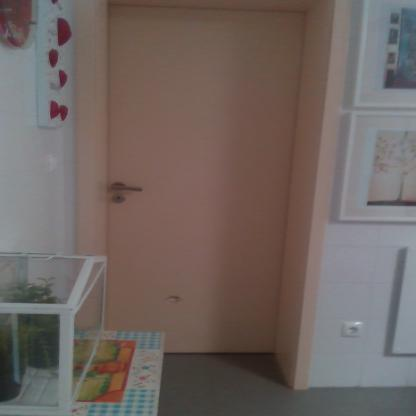door: (112, 5, 288, 357)
lever: (112, 184, 146, 196)
